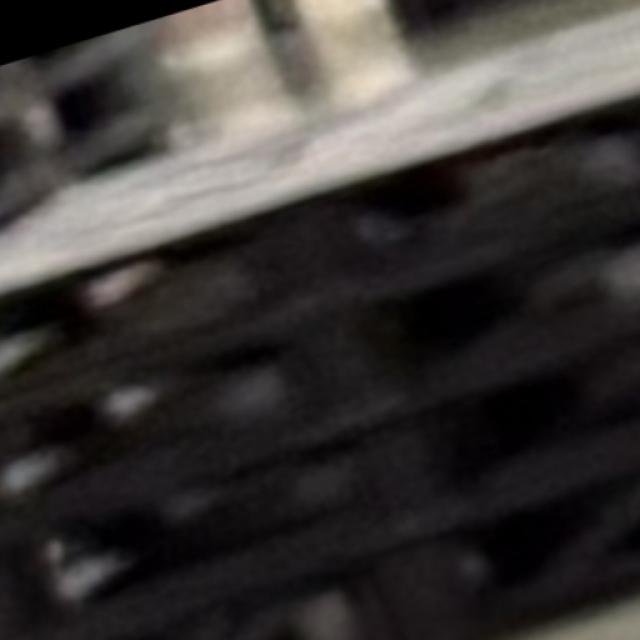igps: (0, 0, 640, 428), (0, 168, 640, 565), (0, 278, 640, 640), (8, 411, 640, 640)
